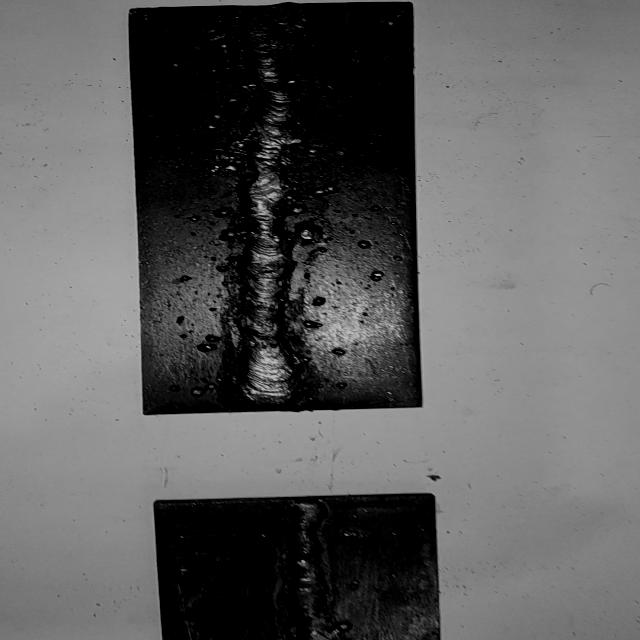Bad Weld: (220, 7, 298, 406)
Defect: (196, 118, 335, 179), (211, 6, 316, 49), (285, 217, 334, 251)
Good Weld: (287, 498, 335, 640)
